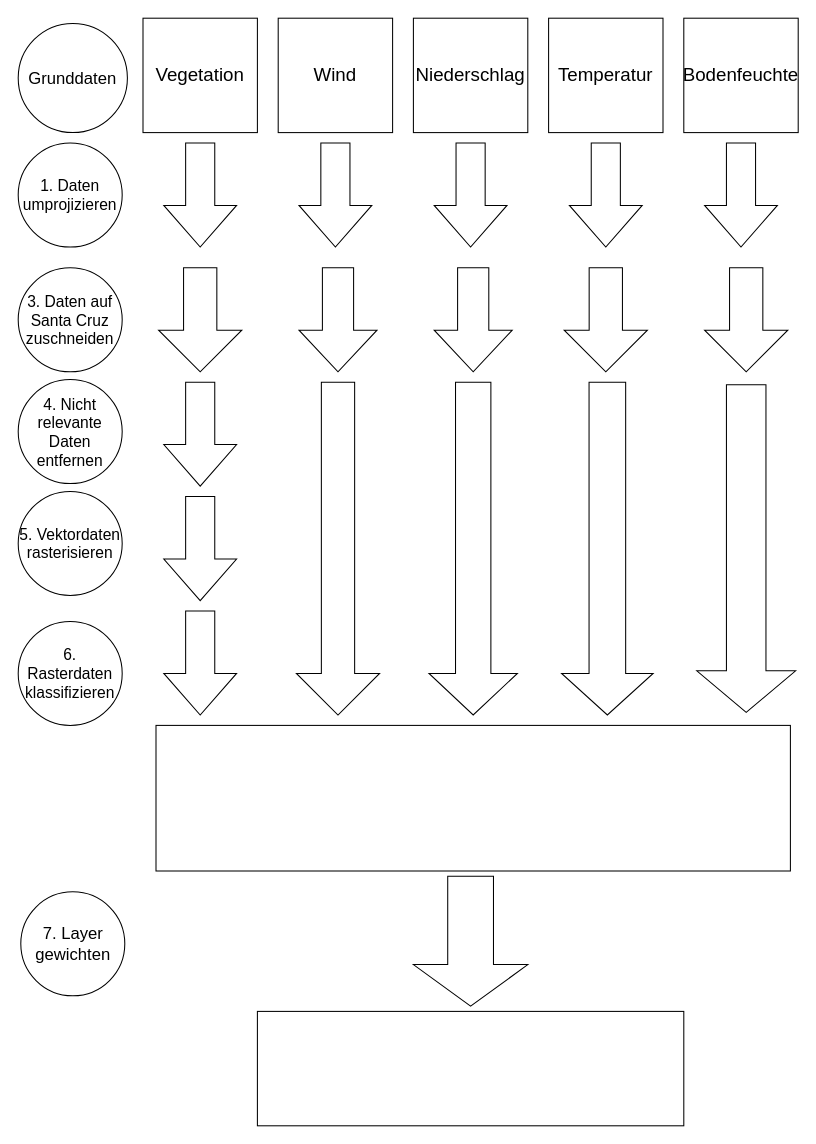
The diagram is 816 pixels wide and 1144 high, and some of its shapes have lost their labels. The shapes that lost their labels are listed below. From the top down, each one's centre as x and y in pixels, then its label:
At [472,797]: "Klassifizierter Rasterdatenlayer".
At [470,1068]: "Wildfeuerrisikolayer".
